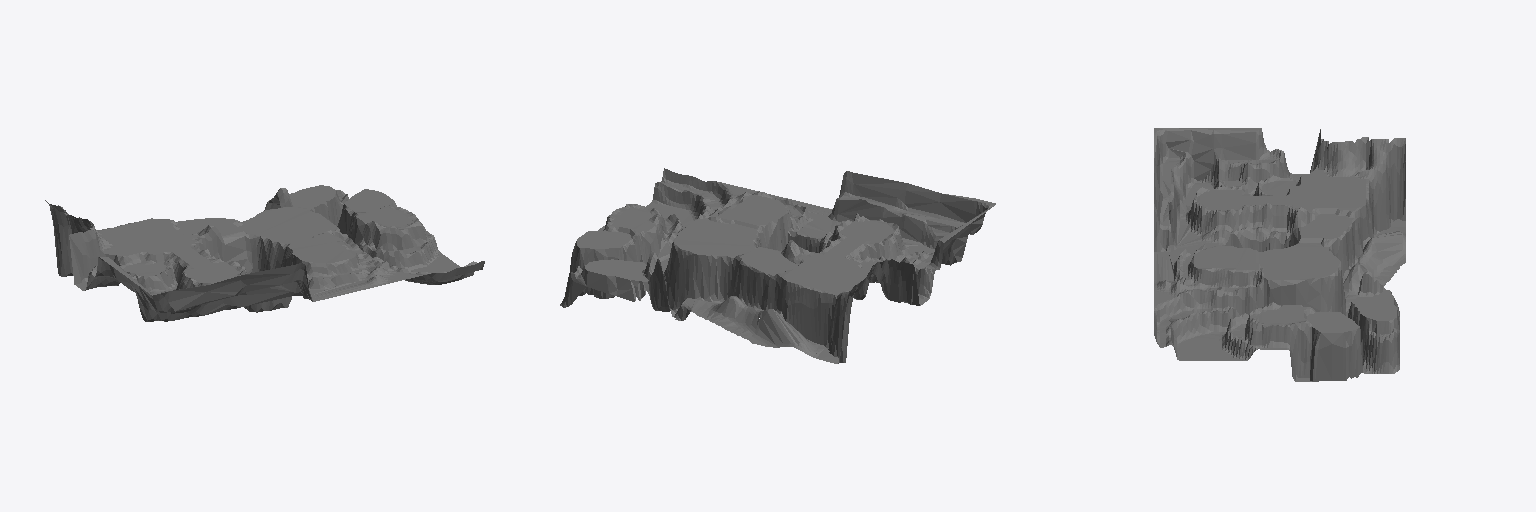
Rendered from THL.obj.
3 views of the same model, side by side, from view 1: azimuth 30°, elevation 25°; view 2: azimuth 150°, elevation 25°; view 3: azimuth 270°, elevation 25° (orthographic).
Parts seen in each view (by area): view 1: THL:Mesh THL:polySurface4 THL:polySurface5 polySurface3, THL:Mesh THL:polySurface5 THL:polySurface6 polySurface24, THL:Mesh THL:polySurface5 THL:polySurface6 polySurface26, THL:Mesh THL:polySurface5 THL:polySurface6 polySurface15, THL:Mesh THL:polySurface5 THL:polySurface6 polySurface18, THL:Mesh THL:polySurface5 THL:polySurface6 polySurface22, THL:Mesh THL:polySurface2 polySurface27, THL:Mesh THL:polySurface5 THL:polySurface6 polySurface20, THL:Mesh THL:polySurface5 THL:polySurface6 polySurface8, THL:Mesh THL:polySurface3 polySurface29, THL:Mesh THL:polySurface5 THL:polySurface6 polySurface25, THL:Mesh THL:polySurface5 THL:polySurface6 polySurface31 (+1 smaller); view 2: THL:Mesh THL:polySurface5 THL:polySurface6 polySurface24, THL:Mesh THL:polySurface4 THL:polySurface5 polySurface3, THL:Mesh THL:polySurface5 THL:polySurface6 polySurface25, THL:Mesh THL:polySurface5 THL:polySurface6 polySurface15, THL:Mesh THL:polySurface2 polySurface27, THL:Mesh THL:polySurface5 THL:polySurface6 polySurface26, THL:Mesh THL:polySurface5 THL:polySurface6 polySurface17, THL:Mesh THL:polySurface5 THL:polySurface6 polySurface20, THL:Mesh THL:polySurface5 THL:polySurface6 polySurface18, THL:Mesh THL:polySurface5 THL:polySurface6 polySurface22, THL:Mesh THL:polySurface5 THL:polySurface6 polySurface8, THL:Mesh THL:polySurface3 polySurface29 (+1 smaller); view 3: THL:Mesh THL:polySurface5 THL:polySurface6 polySurface15, THL:Mesh THL:polySurface4 THL:polySurface5 polySurface3, THL:Mesh THL:polySurface5 THL:polySurface6 polySurface20, THL:Mesh THL:polySurface5 THL:polySurface6 polySurface24, THL:Mesh THL:polySurface5 THL:polySurface6 polySurface26, THL:Mesh THL:polySurface5 THL:polySurface6 polySurface25, THL:Mesh THL:polySurface5 THL:polySurface6 polySurface31, THL:Mesh THL:polySurface2 polySurface27, THL:Mesh THL:polySurface5 THL:polySurface6 polySurface18, THL:Mesh THL:polySurface5 THL:polySurface6 polySurface8, THL:Mesh THL:polySurface5 THL:polySurface6 polySurface22, THL:Mesh THL:polySurface3 polySurface29 (+1 smaller).
Boxes of the visible parts, <box> form: THL:Mesh THL:polySurface4 THL:polySurface5 polySurface3: <box>232,207,362,273</box>; THL:Mesh THL:polySurface5 THL:polySurface6 polySurface24: <box>165,246,297,316</box>; THL:Mesh THL:polySurface5 THL:polySurface6 polySurface26: <box>64,212,224,265</box>; THL:Mesh THL:polySurface5 THL:polySurface6 polySurface15: <box>342,234,484,287</box>; THL:Mesh THL:polySurface5 THL:polySurface6 polySurface18: <box>212,236,372,312</box>; THL:Mesh THL:polySurface5 THL:polySurface6 polySurface22: <box>69,225,177,290</box>; THL:Mesh THL:polySurface2 polySurface27: <box>339,189,428,248</box>; THL:Mesh THL:polySurface5 THL:polySurface6 polySurface20: <box>100,257,207,321</box>; THL:Mesh THL:polySurface5 THL:polySurface6 polySurface8: <box>162,218,249,243</box>; THL:Mesh THL:polySurface3 polySurface29: <box>264,185,339,211</box>; THL:Mesh THL:polySurface5 THL:polySurface6 polySurface25: <box>45,200,72,276</box>; THL:Mesh THL:polySurface5 THL:polySurface6 polySurface31: <box>334,190,439,252</box>; THL:Mesh THL:polySurface5 THL:polySurface6 polySurface24: <box>820,172,940,262</box>; THL:Mesh THL:polySurface4 THL:polySurface5 polySurface3: <box>668,195,792,300</box>; THL:Mesh THL:polySurface5 THL:polySurface6 polySurface25: <box>747,278,865,363</box>; THL:Mesh THL:polySurface5 THL:polySurface6 polySurface15: <box>646,168,774,316</box>; THL:Mesh THL:polySurface2 polySurface27: <box>572,204,667,271</box>; THL:Mesh THL:polySurface5 THL:polySurface6 polySurface26: <box>781,252,887,308</box>; THL:Mesh THL:polySurface5 THL:polySurface6 polySurface17: <box>673,261,768,338</box>; THL:Mesh THL:polySurface5 THL:polySurface6 polySurface20: <box>901,193,995,265</box>; THL:Mesh THL:polySurface5 THL:polySurface6 polySurface18: <box>760,171,862,252</box>; THL:Mesh THL:polySurface5 THL:polySurface6 polySurface22: <box>857,240,944,305</box>; THL:Mesh THL:polySurface5 THL:polySurface6 polySurface8: <box>736,240,814,300</box>; THL:Mesh THL:polySurface3 polySurface29: <box>581,251,661,301</box>; THL:Mesh THL:polySurface5 THL:polySurface6 polySurface15: <box>1154,275,1354,360</box>; THL:Mesh THL:polySurface4 THL:polySurface5 polySurface3: <box>1188,239,1342,310</box>; THL:Mesh THL:polySurface5 THL:polySurface6 polySurface20: <box>1154,128,1258,204</box>; THL:Mesh THL:polySurface5 THL:polySurface6 polySurface24: <box>1154,158,1292,245</box>; THL:Mesh THL:polySurface5 THL:polySurface6 polySurface26: <box>1284,137,1373,230</box>; THL:Mesh THL:polySurface5 THL:polySurface6 polySurface25: <box>1358,138,1405,266</box>; THL:Mesh THL:polySurface5 THL:polySurface6 polySurface31: <box>1245,323,1399,381</box>; THL:Mesh THL:polySurface2 polySurface27: <box>1248,302,1362,373</box>; THL:Mesh THL:polySurface5 THL:polySurface6 polySurface18: <box>1154,203,1297,280</box>; THL:Mesh THL:polySurface5 THL:polySurface6 polySurface8: <box>1293,207,1362,263</box>; THL:Mesh THL:polySurface5 THL:polySurface6 polySurface22: <box>1250,128,1328,195</box>; THL:Mesh THL:polySurface3 polySurface29: <box>1352,271,1399,334</box>.
Bounding box in the file's own units: 228 × 61.29 × 149.